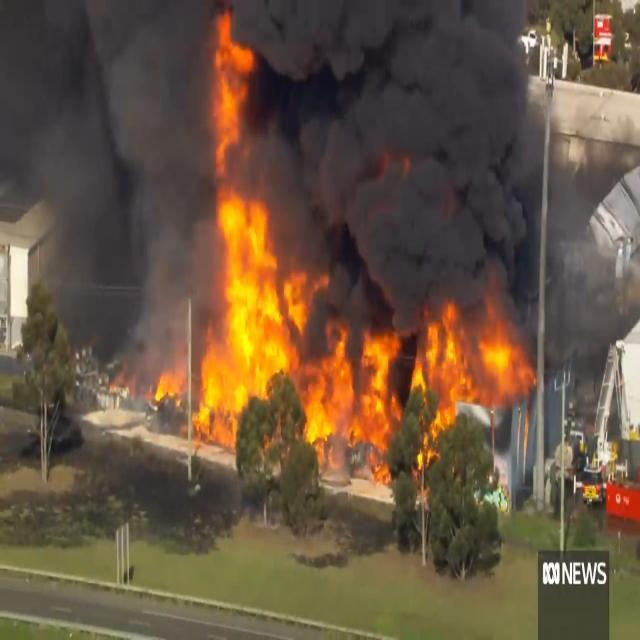fire: (172, 281, 532, 478), (201, 4, 305, 286)
